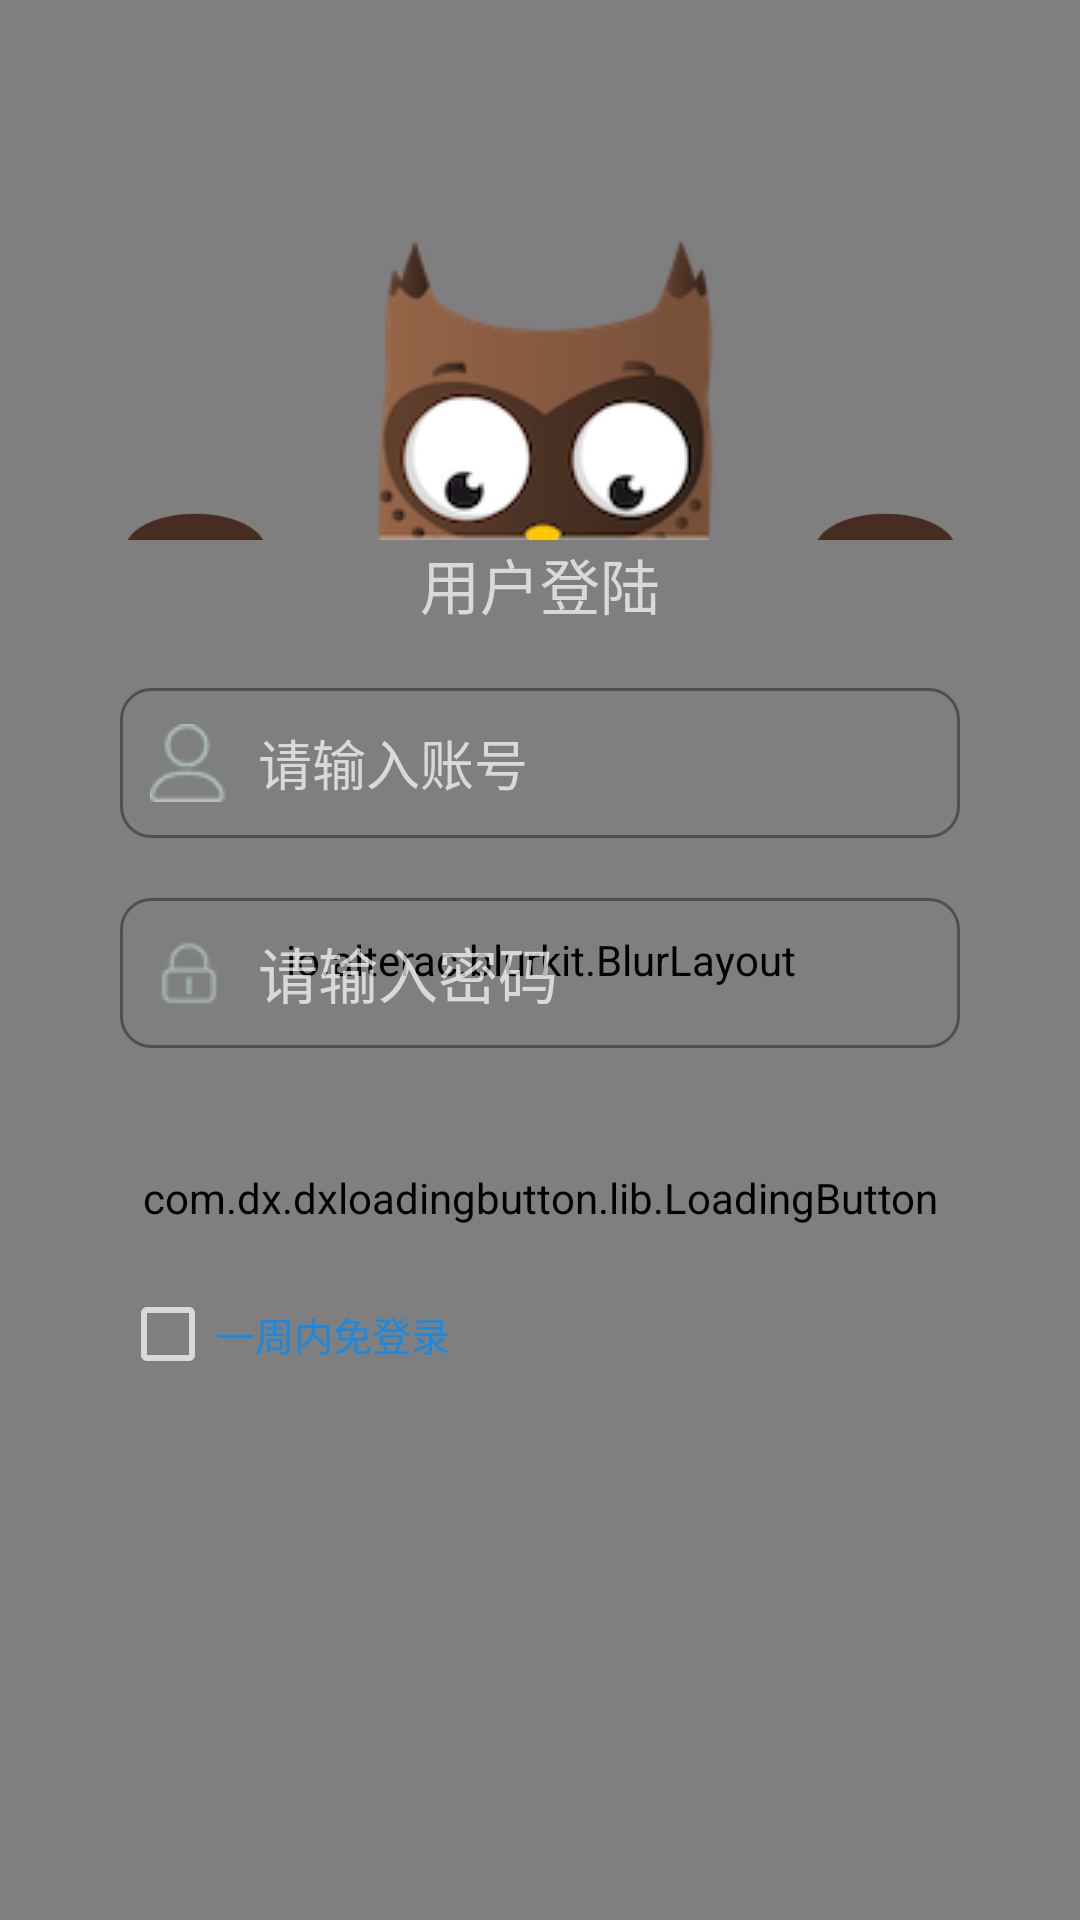

Named icons in this screenshot (1080px×1920px) and their bounding boxes, [x1,y1,x2,y2]:
owl head: [379,241,712,540]
